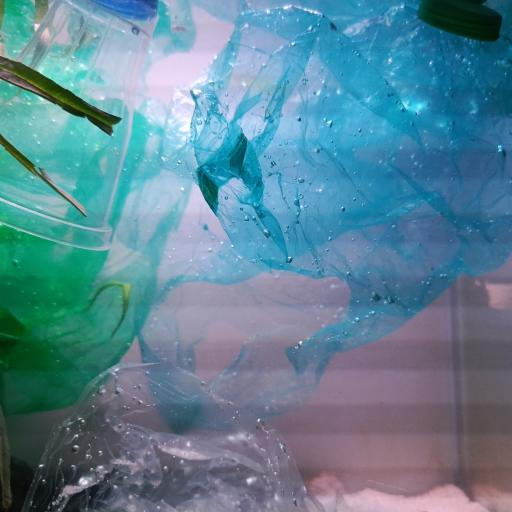bottle_cap: (418, 2, 502, 44)
plastic_bag: (134, 2, 512, 432), (0, 0, 186, 420), (21, 356, 311, 512)
plastic_cup: (2, 0, 156, 260)
